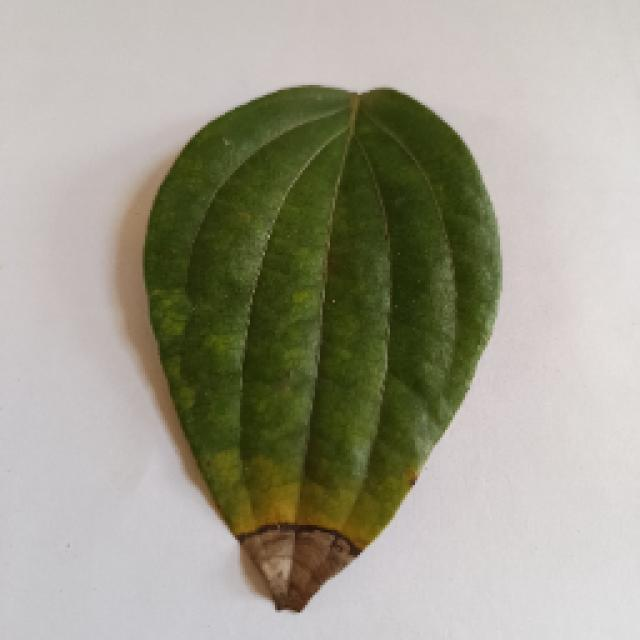footrot: (140, 85, 502, 615)
